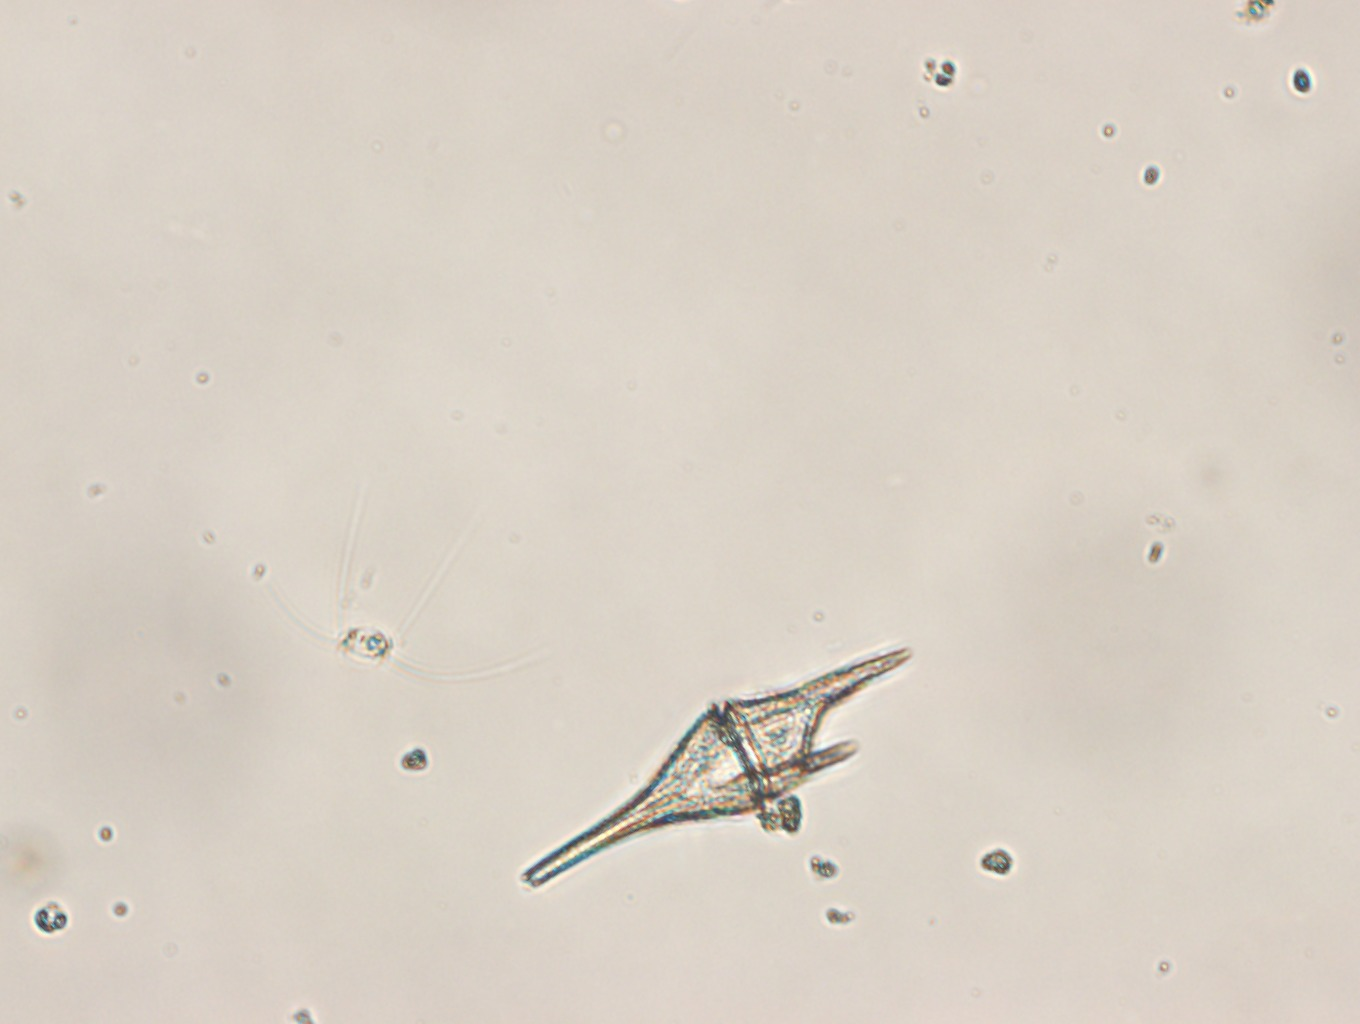ceratium furca: (519, 643, 915, 893)
chaetoceros: (266, 463, 536, 684)
